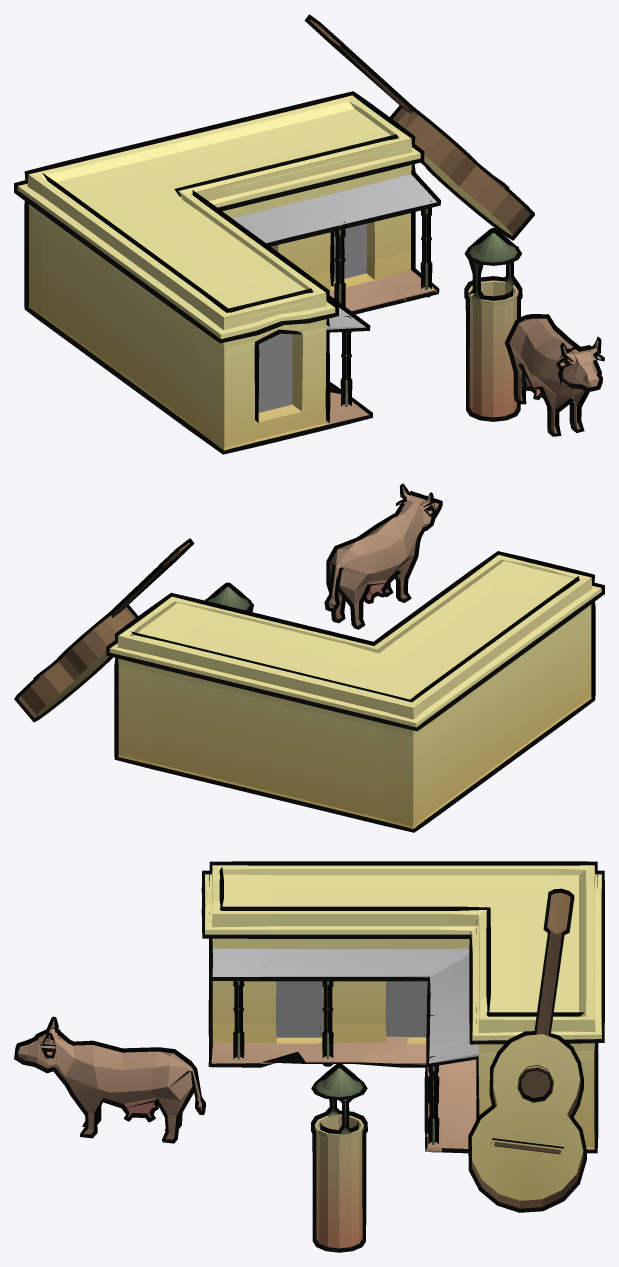
File: Evento Pampa.fbx
The picture shows the model from 3 angles, top to bottom: view 1: azimuth 30°, elevation 25°; view 2: azimuth 150°, elevation 25°; view 3: azimuth 270°, elevation 25°; orthographic projection. The views are drawn at different scales.
Parts seen in each view (by area): view 1: Cube; view 2: Cube; view 3: Cube.
Part boxes in pixels (x1,y1,x2,y2): Cube: (14, 14, 604, 454); Cube: (14, 483, 604, 832); Cube: (14, 861, 604, 1252).
Bounding box in the file's own units: 902 × 600 × 1003.
2 materials, 1 textured.
